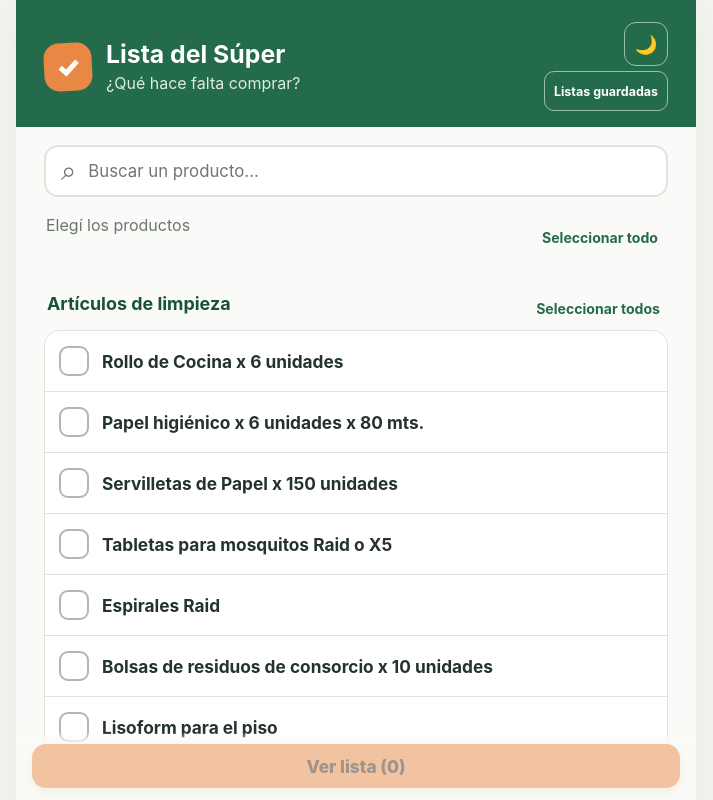
Test: Lista del Súper V3 › selects and deselects every normal catalog product without affecting Otros
The width and height of the screenshot is (713, 800).
Step 1. Click the button "Seleccionar todo" → {"x": 600, "y": 237}, box [534,215,666,259]
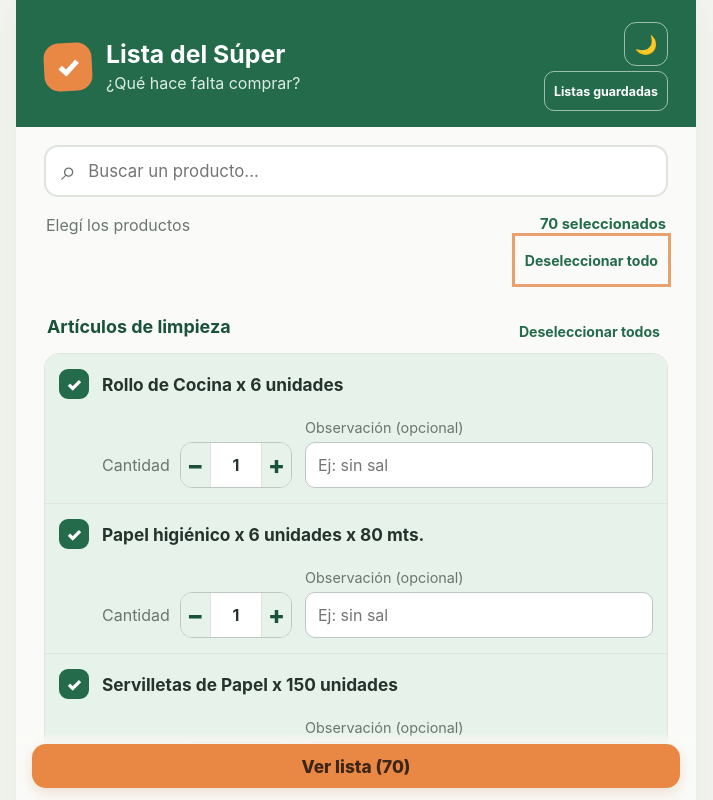
Step 2. Click the button "Deseleccionar todo" → {"x": 591, "y": 260}, box [517,238,666,282]
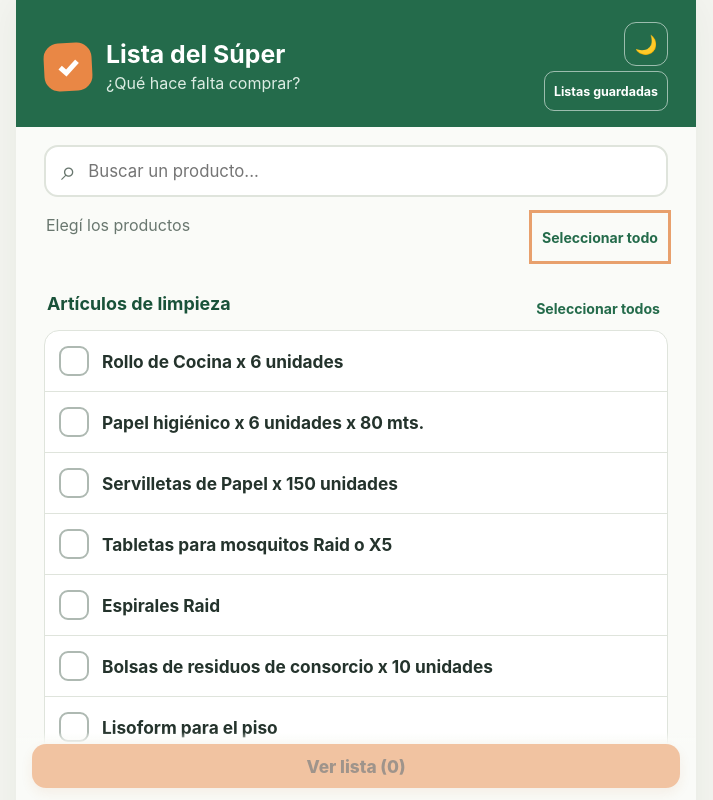
Result: the button "Ver lista (0)" is disabled at [32,744,680,788]
